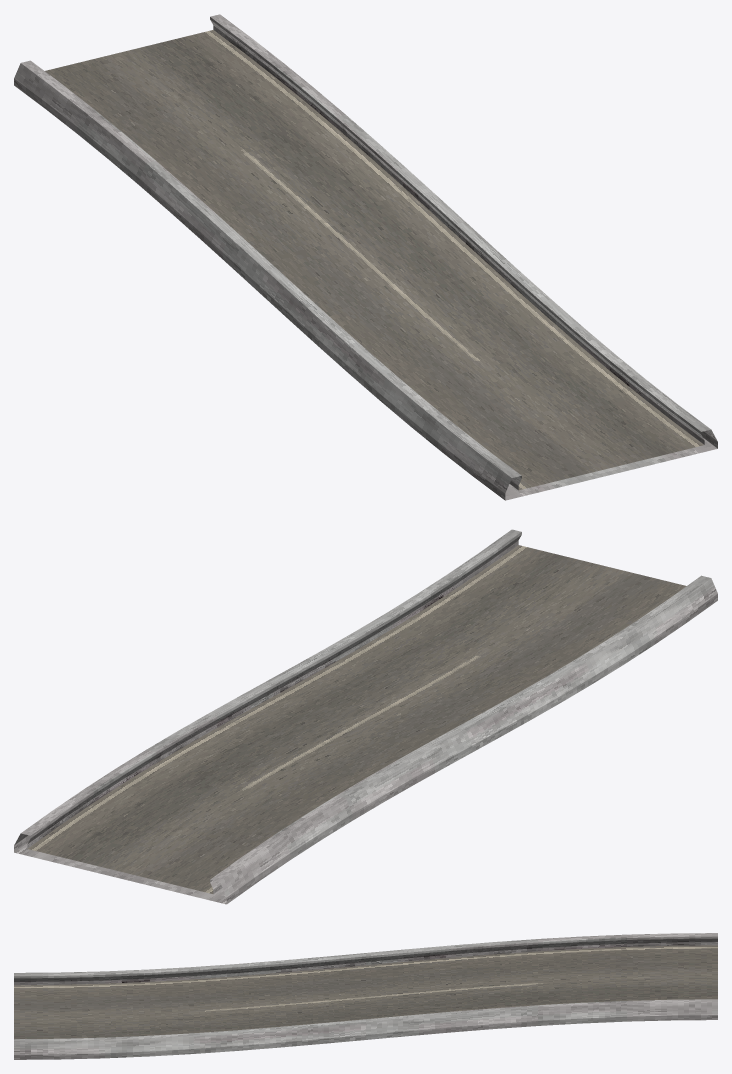
File: road-Straight-Flat-Flat-Up1-Center-Size4.glb
The picture shows the model from 3 angles, top to bottom: view 1: azimuth 30°, elevation 25°; view 2: azimuth 150°, elevation 25°; view 3: azimuth 270°, elevation 25°; orthographic projection. The views are drawn at different scales.
Parts seen in each view (by area): view 1: road-Straight-Flat-Flat-Up1-Center-Size4; view 2: road-Straight-Flat-Flat-Up1-Center-Size4; view 3: road-Straight-Flat-Flat-Up1-Center-Size4.
Part boxes in pixels (x1,y1,x2,y2): road-Straight-Flat-Flat-Up1-Center-Size4: (14,14,717,500); road-Straight-Flat-Flat-Up1-Center-Size4: (14,529,717,904); road-Straight-Flat-Flat-Up1-Center-Size4: (14,933,717,1059).
Size of the model in its own units: 1 by 0.3438 by 4.
Materials: 2 (2 with a texture image).
